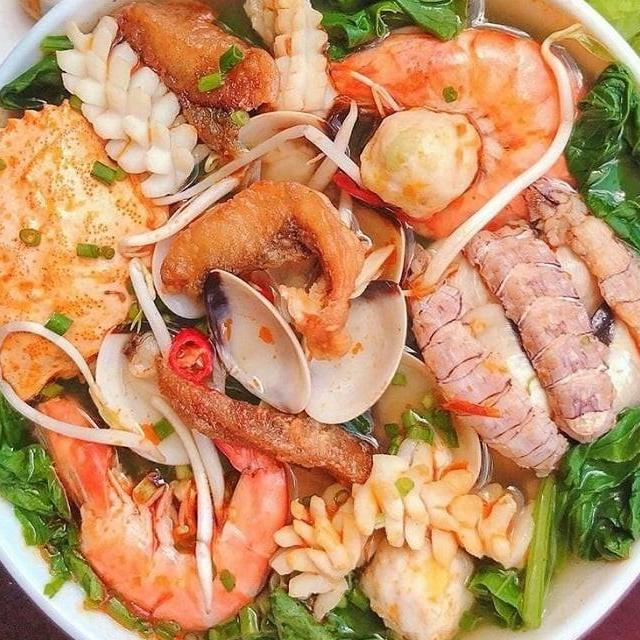bun hai san: (0, 0, 640, 640)
ca: (152, 175, 372, 368), (145, 356, 382, 491), (100, 0, 287, 166)
muc: (265, 429, 546, 627), (47, 8, 219, 207), (237, 0, 353, 134)
tom: (19, 375, 295, 637), (315, 15, 606, 254)
tom tit: (396, 229, 576, 482), (461, 213, 621, 448), (517, 172, 640, 403)
